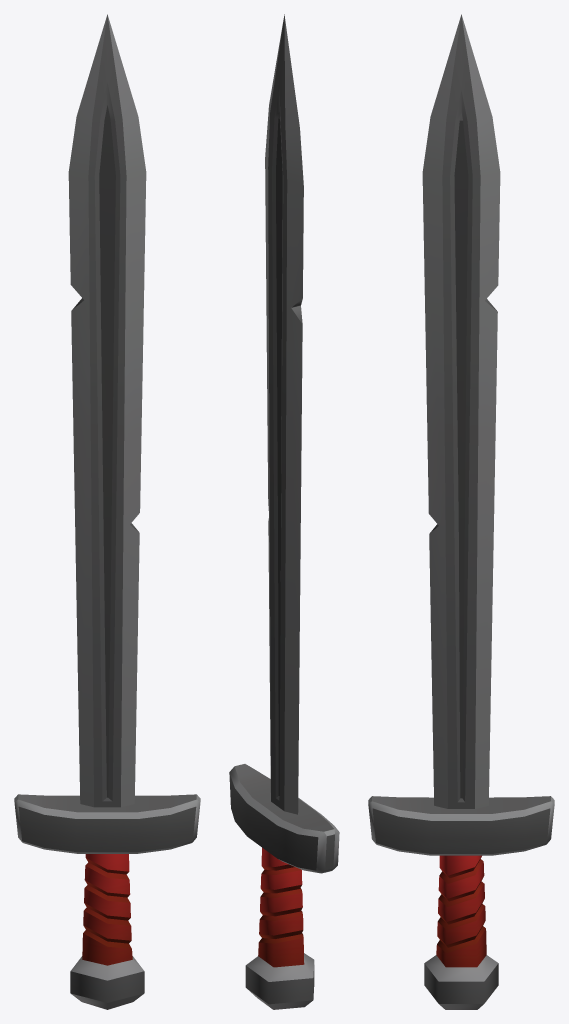
File: Sword_1_C.glb
3 views of the same model, side by side, from view 1: azimuth 90°, elevation 25°; view 2: azimuth 210°, elevation 25°; view 3: azimuth 270°, elevation 25° (orthographic).
Visible parts, largest first — view 1: Sword_1_C; view 2: Sword_1_C; view 3: Sword_1_C.
Boxes of the visible parts, x1,y1,x2,y2 form: Sword_1_C: (14,14,200,1009); Sword_1_C: (229,14,339,1009); Sword_1_C: (368,14,554,1009).
Bounding box in the file's own units: 0.0843 × 1.39 × 0.2376.
Materials: 2 (2 with a texture image).
